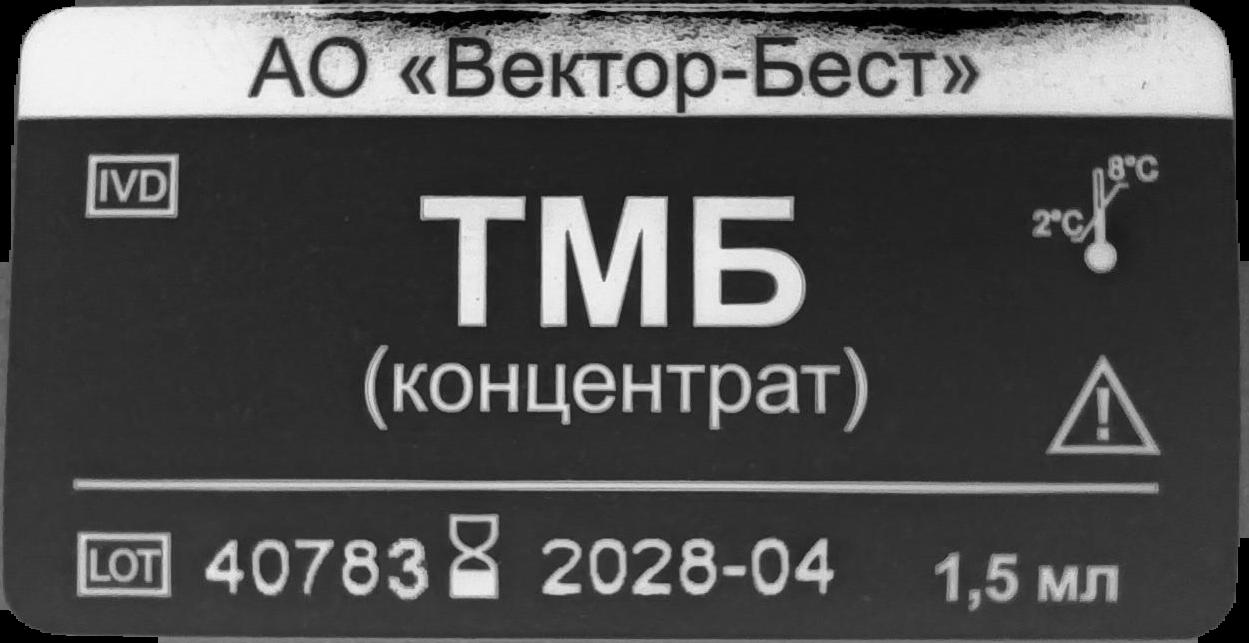something: (1029, 155, 1169, 282), (1033, 348, 1170, 457), (70, 528, 177, 602), (81, 148, 182, 225), (446, 513, 498, 609)
text: (355, 191, 879, 442), (243, 26, 994, 117), (541, 535, 835, 606), (201, 533, 429, 604), (929, 546, 1122, 614)
